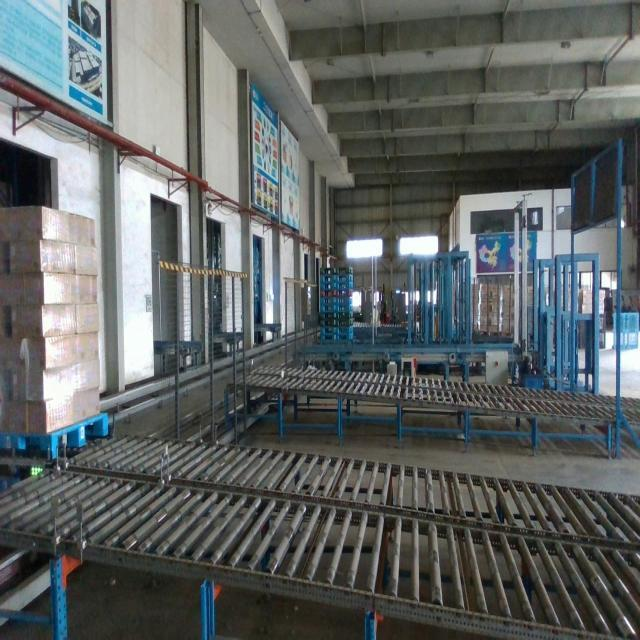forklift: (379, 283, 392, 325)
